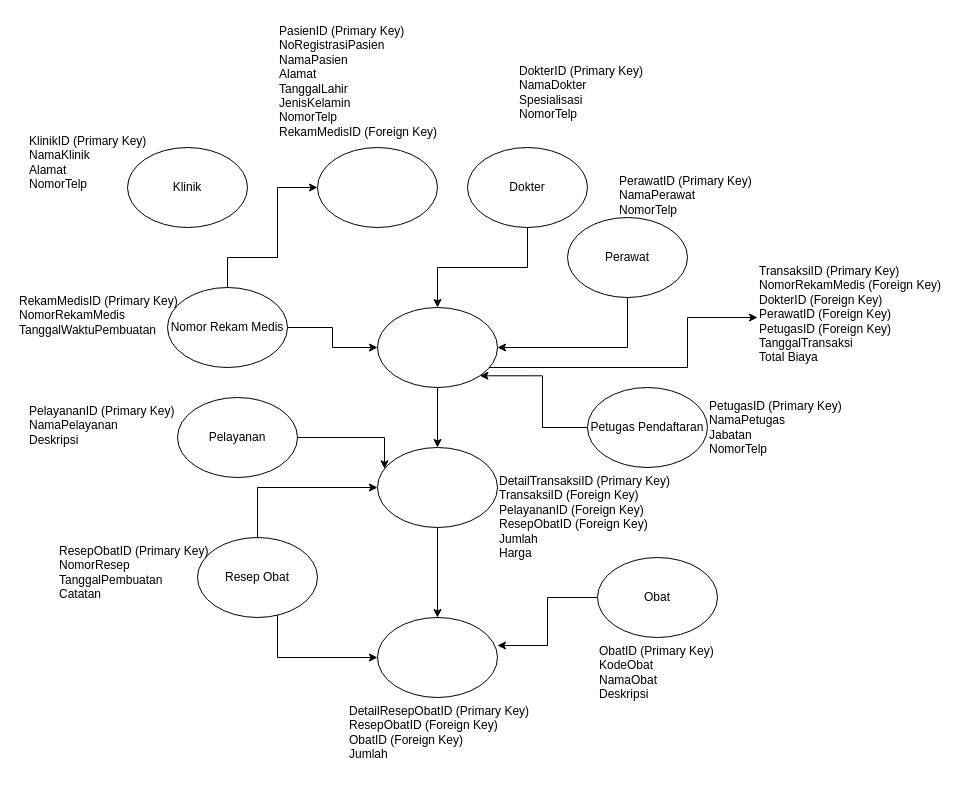
The diagram is 964 pixels wide and 794 high, and some of its shapes have lost their labels. Here are the shapes that lost their labels. From the top down, the box of each, then its label:
(316, 146, 438, 228): Pasien
(376, 306, 498, 388): Transaksi
(376, 446, 498, 528): Detail Transaksi
(376, 616, 498, 698): Detail Resep Obat
